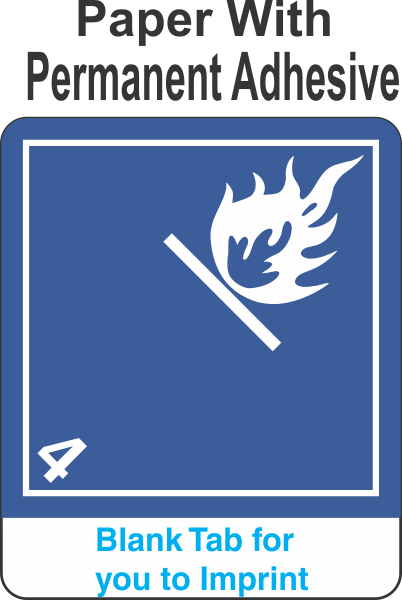Dangerous when wet: (1, 117, 402, 518)
